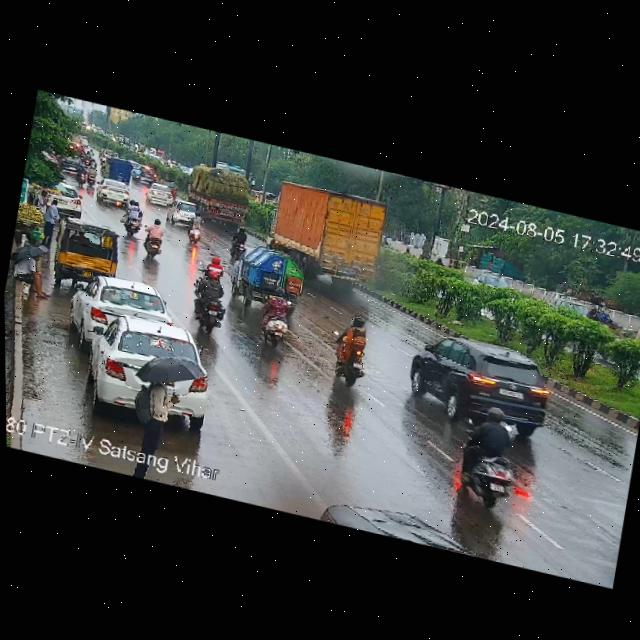car: (388, 321, 555, 438), (81, 309, 208, 397), (72, 269, 174, 347), (315, 492, 446, 546), (186, 159, 260, 230), (50, 213, 125, 283), (94, 176, 133, 206), (167, 199, 203, 230), (146, 182, 178, 209), (137, 161, 161, 185), (60, 153, 81, 173)
motorcycle: (448, 395, 529, 514), (184, 261, 237, 338), (327, 308, 373, 388), (253, 286, 301, 350), (141, 214, 169, 261), (584, 295, 616, 324), (122, 198, 142, 240), (227, 224, 249, 262), (185, 213, 207, 245), (204, 253, 225, 282), (75, 164, 88, 187), (84, 165, 98, 186), (131, 165, 142, 184), (114, 170, 125, 183), (83, 150, 91, 163), (88, 157, 97, 167)
person: (128, 349, 202, 434), (7, 241, 61, 305), (40, 198, 61, 248), (36, 187, 50, 213)
truck: (258, 176, 401, 300), (226, 238, 309, 311), (102, 153, 132, 184)
